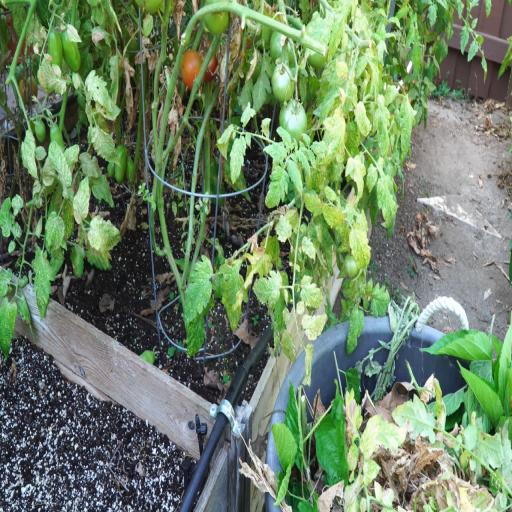Spider Mites: (182, 254, 214, 330), (217, 261, 248, 334), (31, 246, 55, 321), (90, 124, 121, 168), (85, 67, 114, 114), (88, 214, 122, 251), (348, 226, 372, 278), (0, 295, 18, 363), (377, 174, 398, 229), (49, 140, 73, 188), (396, 92, 412, 164), (36, 60, 67, 96), (252, 270, 282, 306), (265, 165, 290, 208), (326, 8, 346, 60), (0, 194, 22, 240), (20, 129, 39, 180), (346, 303, 364, 355), (72, 174, 90, 225), (44, 210, 65, 253), (374, 106, 391, 159), (300, 274, 324, 310), (91, 173, 115, 209), (322, 198, 347, 232), (300, 313, 328, 342), (230, 134, 246, 184), (215, 124, 234, 161), (78, 151, 103, 179), (301, 341, 315, 388), (354, 100, 371, 137), (274, 213, 293, 244), (302, 191, 322, 218), (63, 142, 79, 174), (300, 234, 316, 265), (366, 162, 378, 195), (66, 22, 82, 45)
